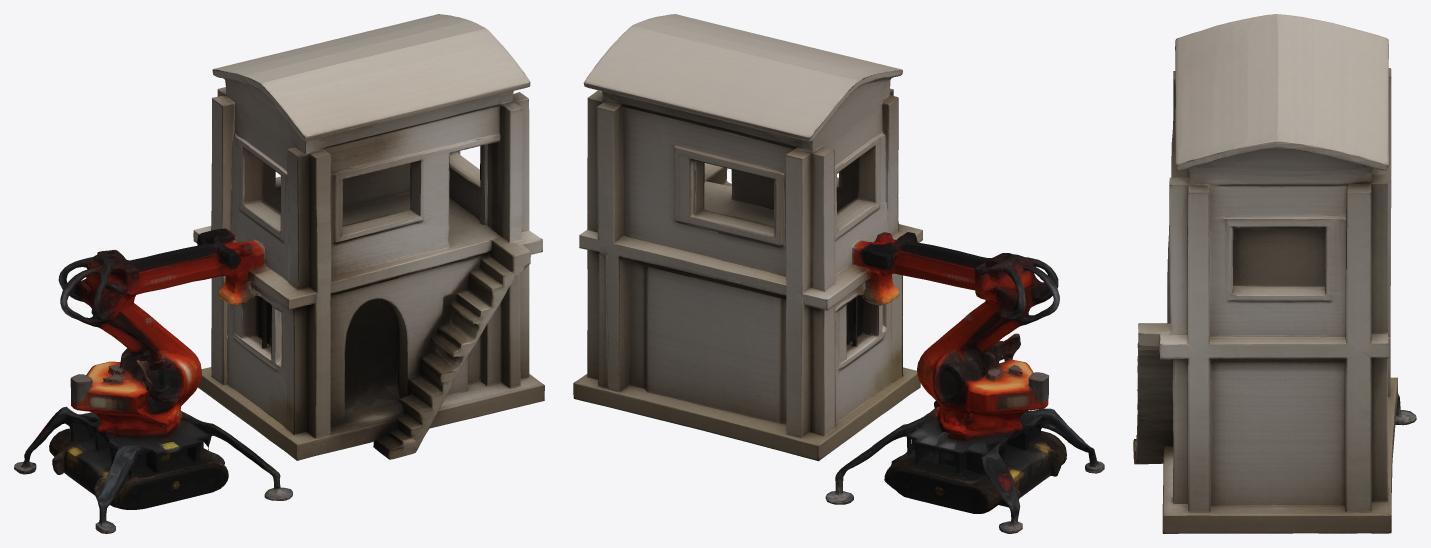
File: HousewithK1.glb
3 renders of one model, left to right at view 1: azimuth 30°, elevation 25°; view 2: azimuth 150°, elevation 25°; view 3: azimuth 270°, elevation 25°, orthographic. The views are drawn at different scales.
Visible parts, largest first — view 1: world; view 2: world; view 3: world.
Part boxes in pixels (x1=…): world: x1=14, y1=14, x2=544, y2=533; world: x1=573, y1=14, x2=1104, y2=533; world: x1=1133, y1=14, x2=1416, y2=533.
Size of the model in its own units: 0.998 by 0.8054 by 0.4875.
1 material, 1 textured.
